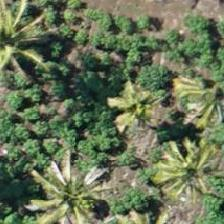coconut_tree: (135, 125, 223, 215), (23, 163, 113, 223), (0, 0, 51, 89)
